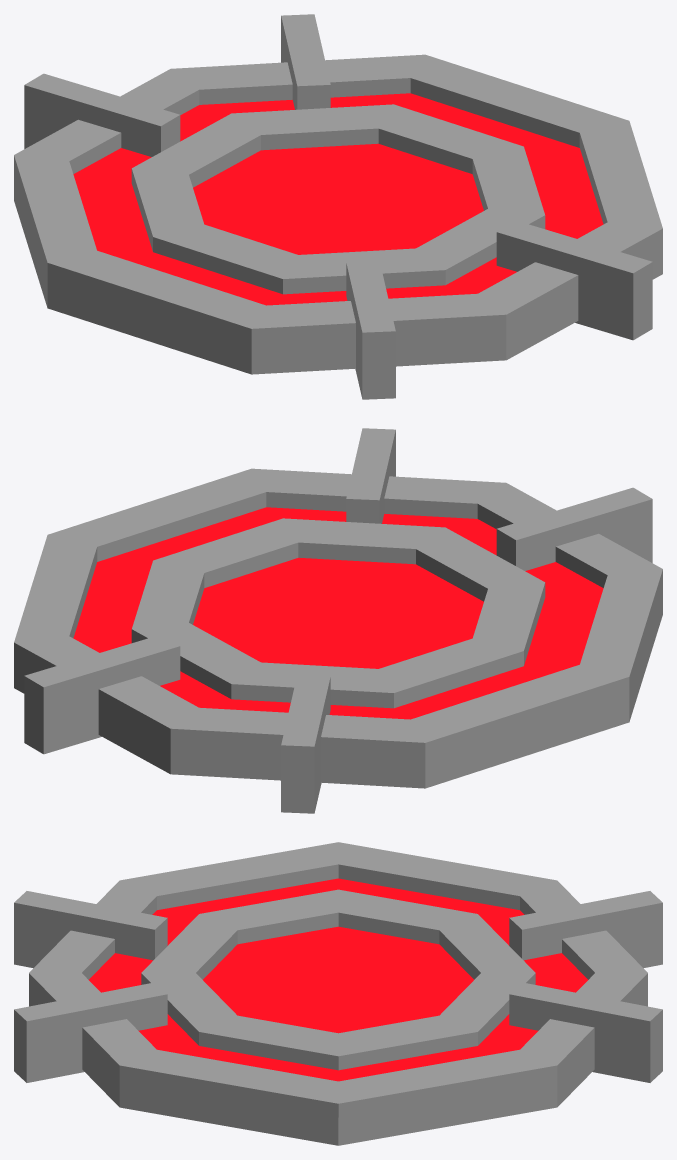
File: TestCharger.glb
3 renders of one model, top to bottom at view 1: azimuth 30°, elevation 25°; view 2: azimuth 150°, elevation 25°; view 3: azimuth 270°, elevation 25°, orthographic. The views are drawn at different scales.
Visible parts, largest first — view 1: ColorSwitcher; view 2: ColorSwitcher; view 3: ColorSwitcher.
Part boxes in pixels (box(x1,y1,x2,y2)): ColorSwitcher: box(14, 14, 662, 399); ColorSwitcher: box(14, 428, 662, 813); ColorSwitcher: box(14, 842, 662, 1145).
Size of the model in its own units: 4 by 0.4408 by 4.19.
